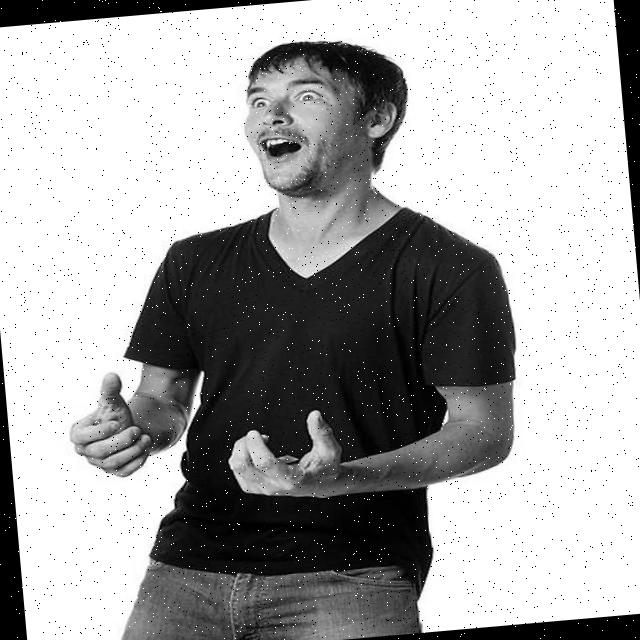Surprised: (238, 50, 372, 194)
